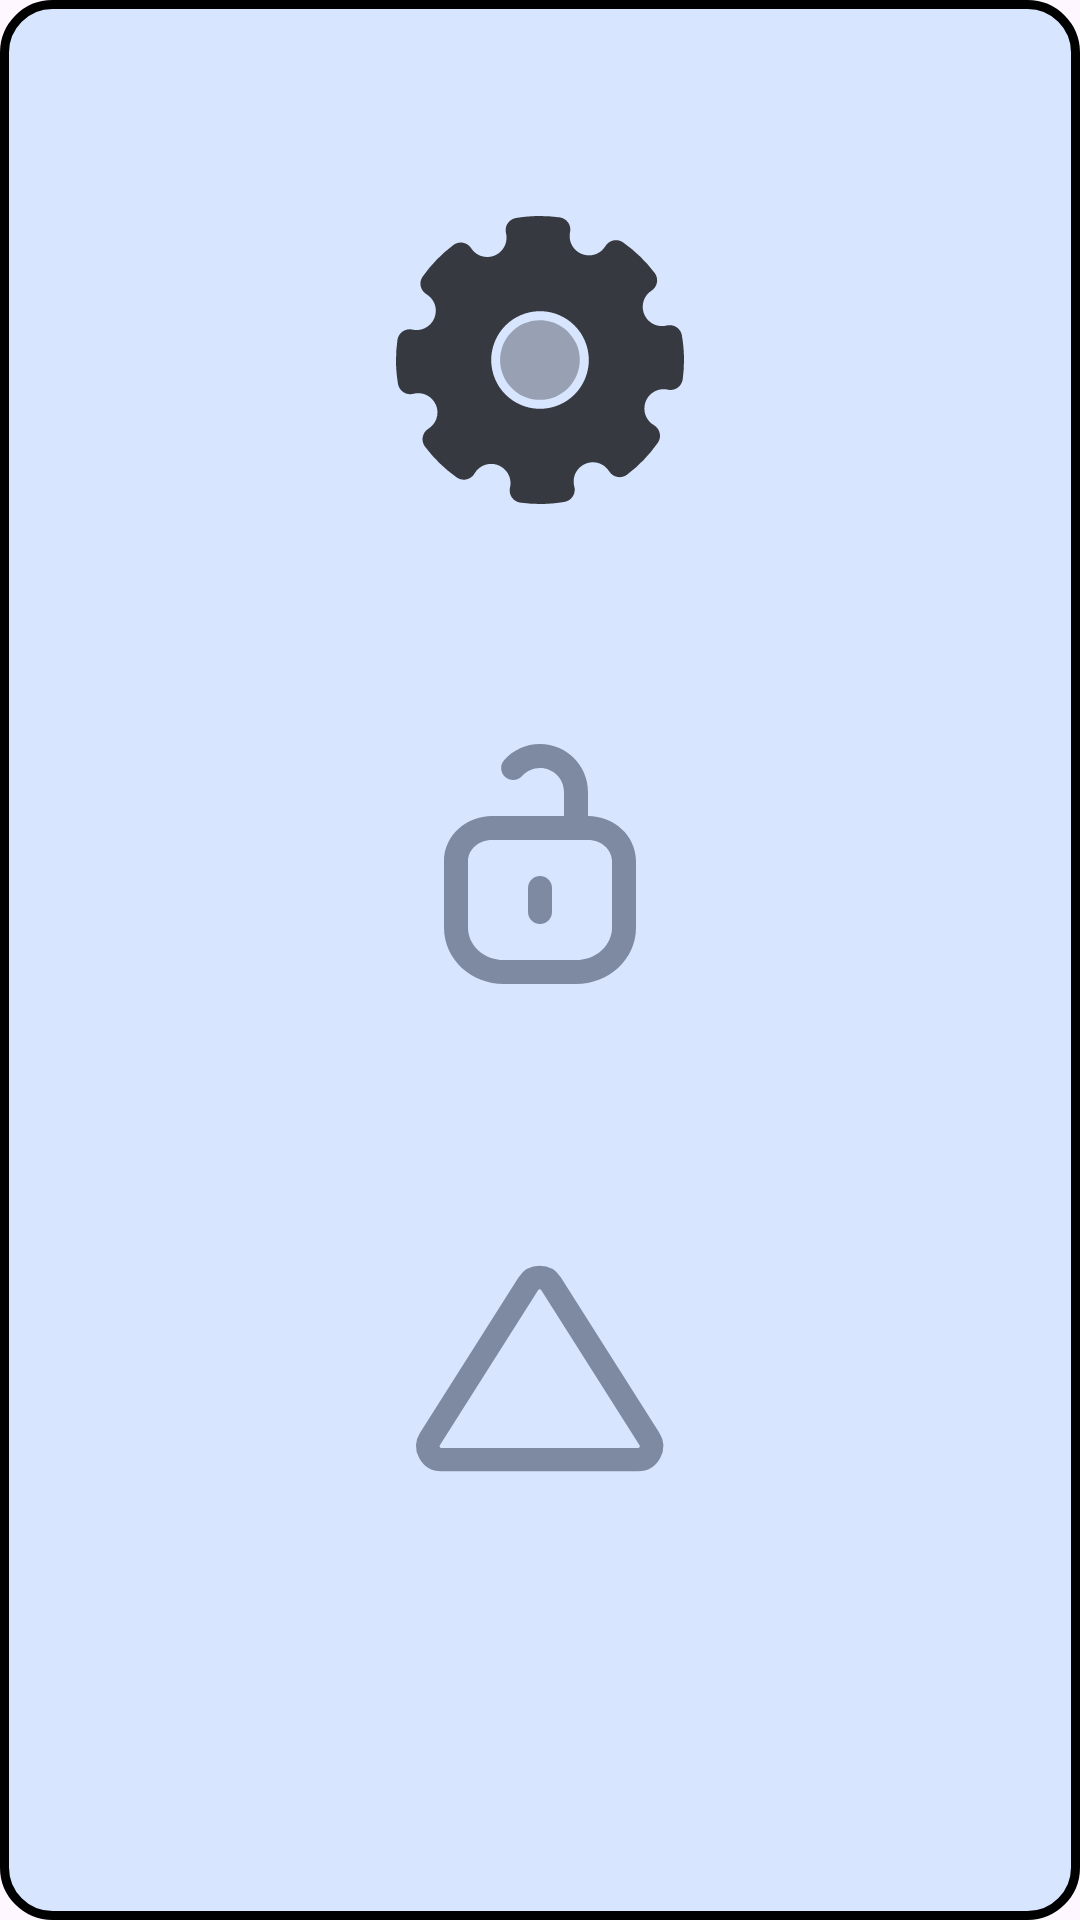

Screen size 1080 x 1920. Icon name, then its box in pixels as (x1, y1, x2, y2):
gear: (396, 216, 684, 504)
unlock: (444, 744, 636, 984)
